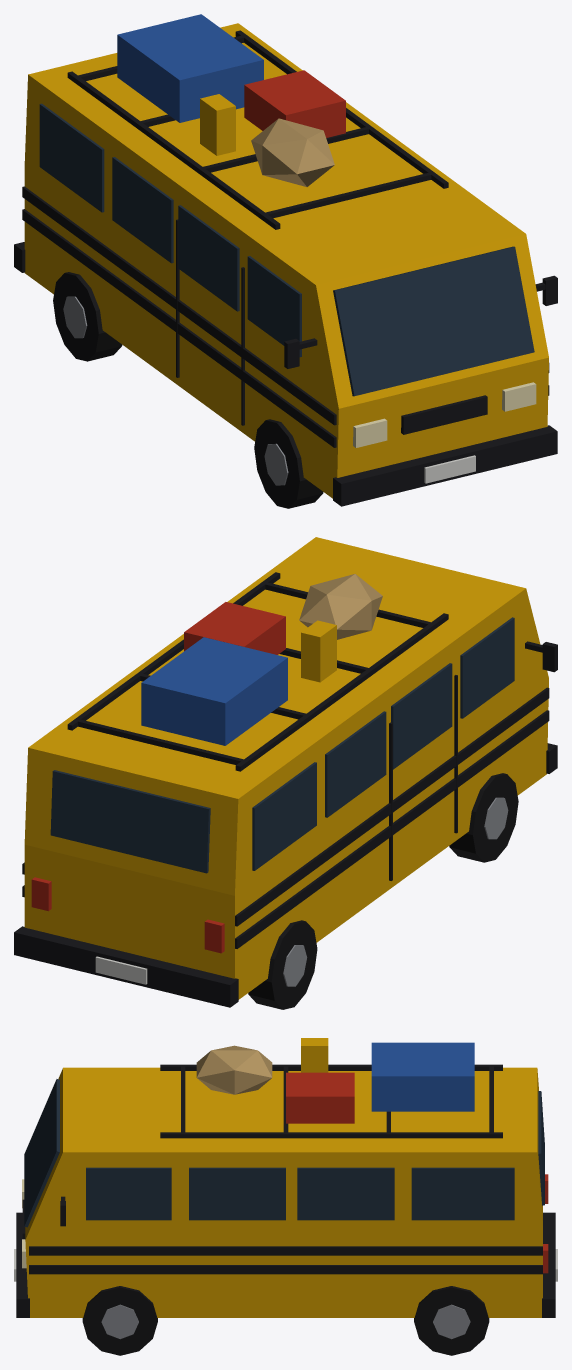
The model's file is veh_danfo.glb.
The picture shows the model from 3 angles, top to bottom: view 1: azimuth 30°, elevation 25°; view 2: azimuth 150°, elevation 25°; view 3: azimuth 270°, elevation 25°; orthographic projection. The views are drawn at different scales.
Parts seen in each view (by area): view 1: body; view 2: body; view 3: body.
Part boxes in pixels (bbox=[...]): body: bbox=[14, 14, 557, 508]; body: bbox=[14, 537, 557, 1009]; body: bbox=[14, 1038, 557, 1355].
Size of the model in its own units: 2.25 by 2.43 by 4.76.
